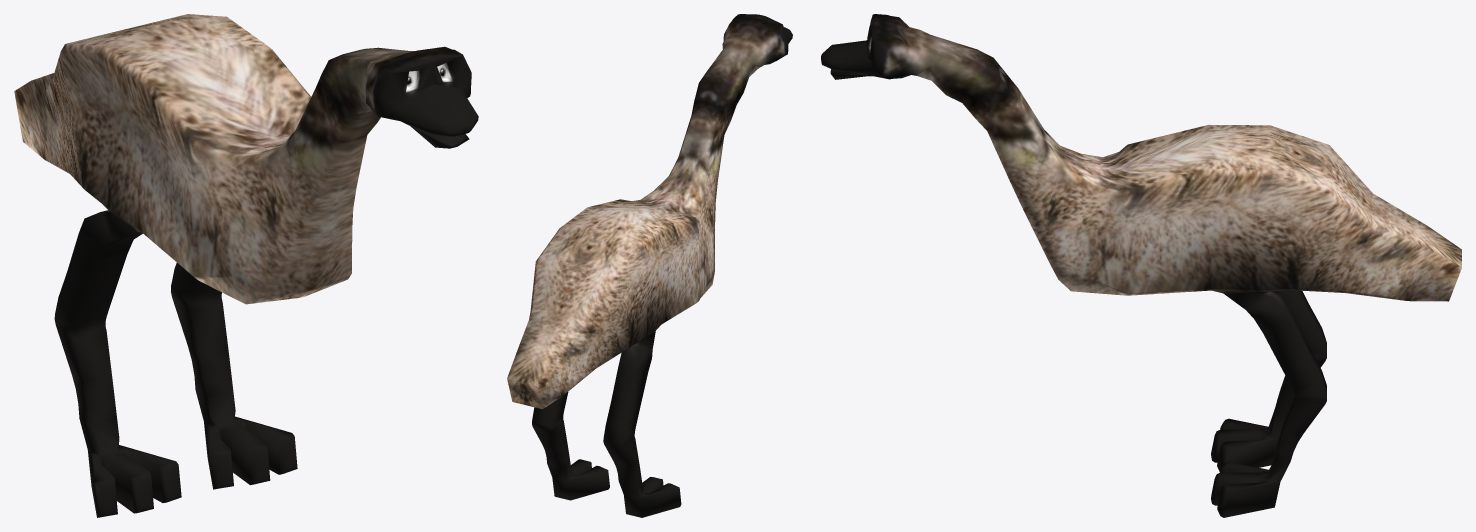
File: EMU.fbx
3 renders of one model, left to right at view 1: azimuth 30°, elevation 25°; view 2: azimuth 150°, elevation 25°; view 3: azimuth 270°, elevation 25°, orthographic. The views are drawn at different scales.
Visible parts, largest first — view 1: pCube1; view 2: pCube1; view 3: pCube1.
Part boxes in pixels (left/top/right/bottom): pCube1: left=14, top=14, right=478, bottom=517; pCube1: left=507, top=14, right=792, bottom=517; pCube1: left=821, top=14, right=1461, bottom=517.
Bounding box in the file's own units: 4.48 × 12.99 × 16.48.
Materials: 1 (1 with a texture image).
